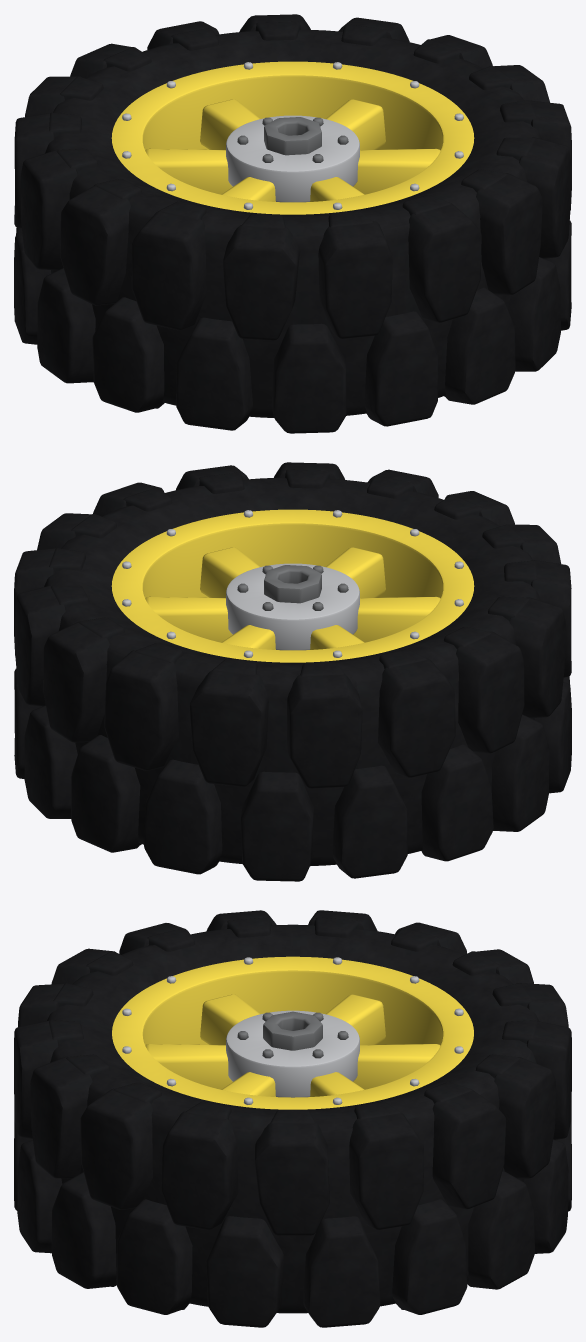
File: big_wheel.glb
3 renders of one model, top to bottom at view 1: azimuth 30°, elevation 25°; view 2: azimuth 150°, elevation 25°; view 3: azimuth 270°, elevation 25°, orthographic.
Parts seen in each view (by area): view 1: SM_Wheel_OffRoad; view 2: SM_Wheel_OffRoad; view 3: SM_Wheel_OffRoad.
Boxes of the visible parts, left/top/right/bottom form: SM_Wheel_OffRoad: left=14, top=14, right=571, bottom=433; SM_Wheel_OffRoad: left=14, top=462, right=571, bottom=881; SM_Wheel_OffRoad: left=14, top=910, right=571, bottom=1327.
Bounding box in the file's own units: 1.25 × 0.497 × 1.25.
Materials: 5 (1 with a texture image).
